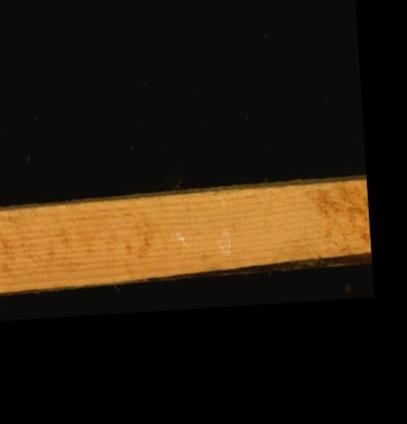wave: (149, 255, 370, 274)
